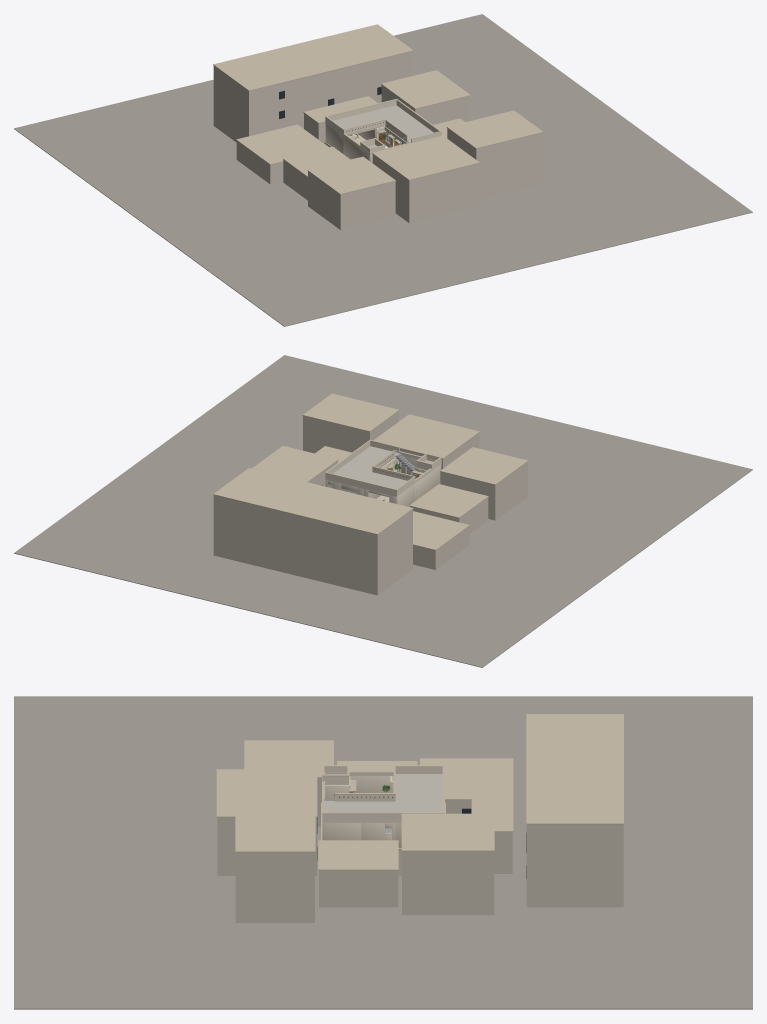
Rendered from floor.glb.
3 views of the same model, one above another, from view 1: azimuth 30°, elevation 25°; view 2: azimuth 150°, elevation 25°; view 3: azimuth 270°, elevation 25° (orthographic). The views are drawn at different scales.
Parts seen in each view (by area): view 1: Arch__Ground, Neighbours__Facade2, Neighbours__StoneTrim, Roof__Cream, Roof__RoofTop, Arch__Cream, Roof__StoneTrim; view 2: Arch__Ground, Neighbours__Facade2, Neighbours__StoneTrim, Arch__Cream, Roof__Cream, Roof__RoofTop, Roof__StoneTrim; view 3: Arch__Ground, Neighbours__StoneTrim, Neighbours__Facade2, Roof__RoofTop, Arch__Cream, Roof__Cream, Roof__StoneTrim.
Part boxes in pixels (x1,y1,x2,y2): Arch__Ground: (14, 14, 752, 326); Neighbours__Facade2: (213, 51, 542, 229); Neighbours__StoneTrim: (213, 24, 543, 194); Roof__Cream: (325, 100, 441, 154); Roof__RoofTop: (333, 105, 433, 147); Arch__Cream: (325, 124, 405, 162); Roof__StoneTrim: (325, 98, 441, 149); Arch__Ground: (14, 355, 752, 667); Neighbours__Facade2: (213, 411, 527, 595); Neighbours__StoneTrim: (213, 393, 527, 550); Arch__Cream: (325, 452, 441, 506); Roof__Cream: (325, 441, 441, 495); Roof__RoofTop: (333, 446, 433, 488); Roof__StoneTrim: (325, 439, 441, 490); Arch__Ground: (14, 696, 752, 1009); Neighbours__StoneTrim: (216, 714, 623, 870); Neighbours__Facade2: (217, 778, 623, 922); Roof__RoofTop: (324, 774, 442, 812); Arch__Cream: (322, 772, 401, 847); Roof__Cream: (322, 766, 442, 821); Roof__StoneTrim: (322, 765, 444, 813).
Bounding box in the file's own units: 80 × 10.12 × 80.
